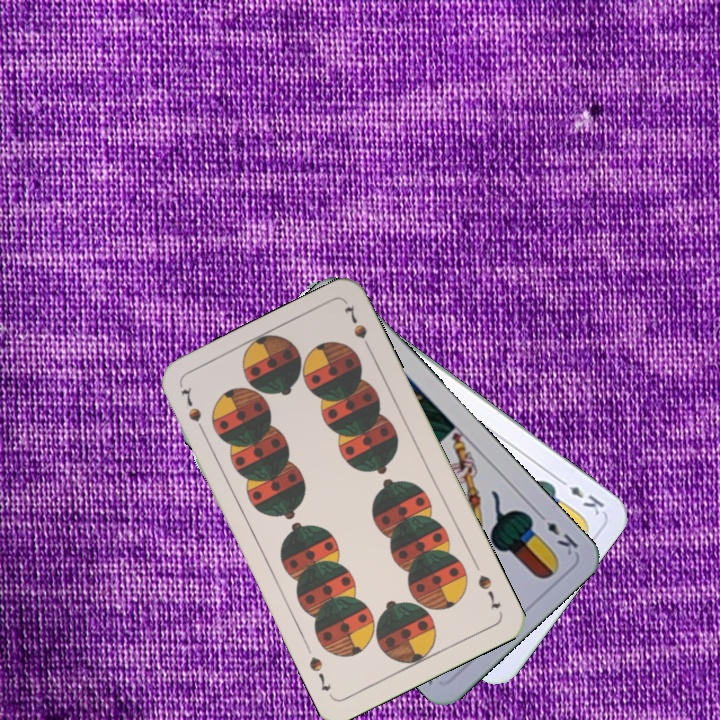EK: (533, 507, 581, 558), (554, 474, 607, 518)
S7: (177, 383, 209, 439), (474, 570, 504, 612)
